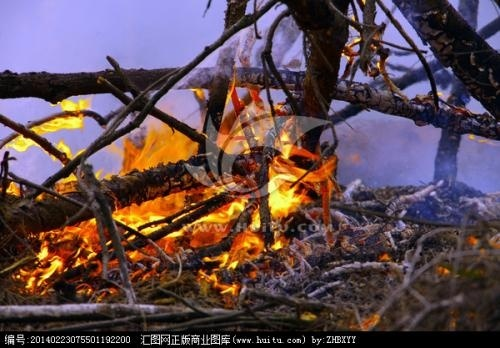fire: (23, 71, 339, 298)
